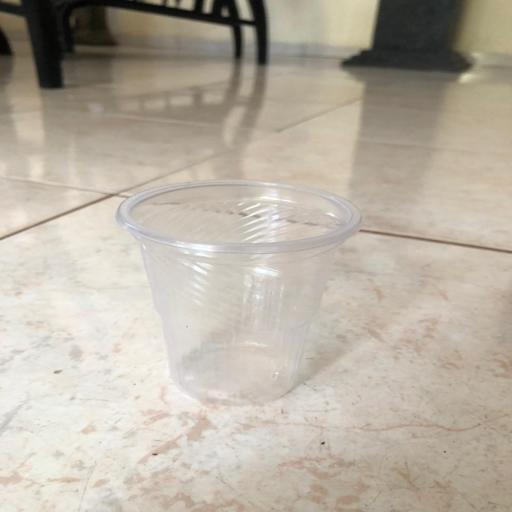waste: (102, 171, 374, 425)
